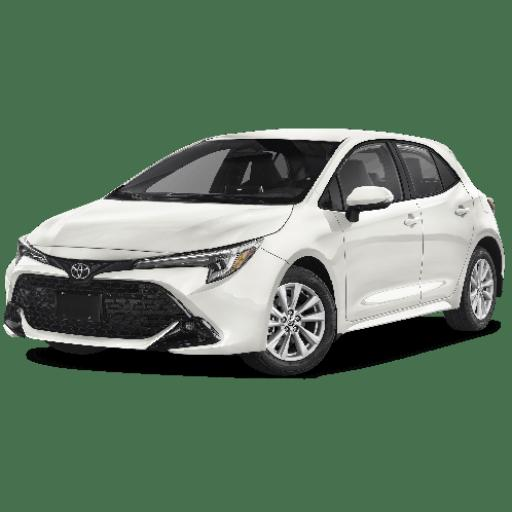hatchback: (3, 129, 504, 374)
